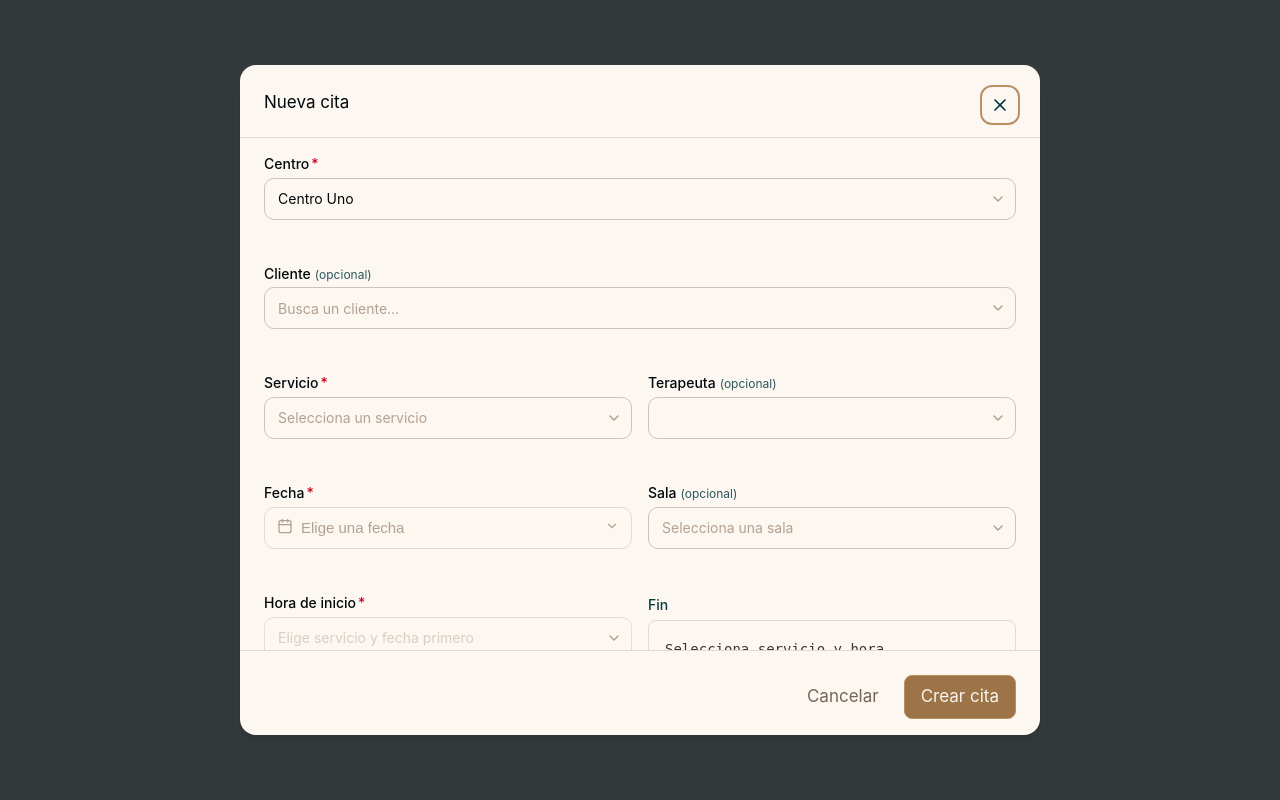
Scenario: CitaModal — therapist/centro mismatch › blocks submit with "Esa masajista no pertenece a ese centro" when the prefilled therapist is not in the centro list
What coordinates should you click on to do the following:
click the button "Crear cita"
I would click on:
 (960, 697)
Its box is [904, 675, 1016, 719].
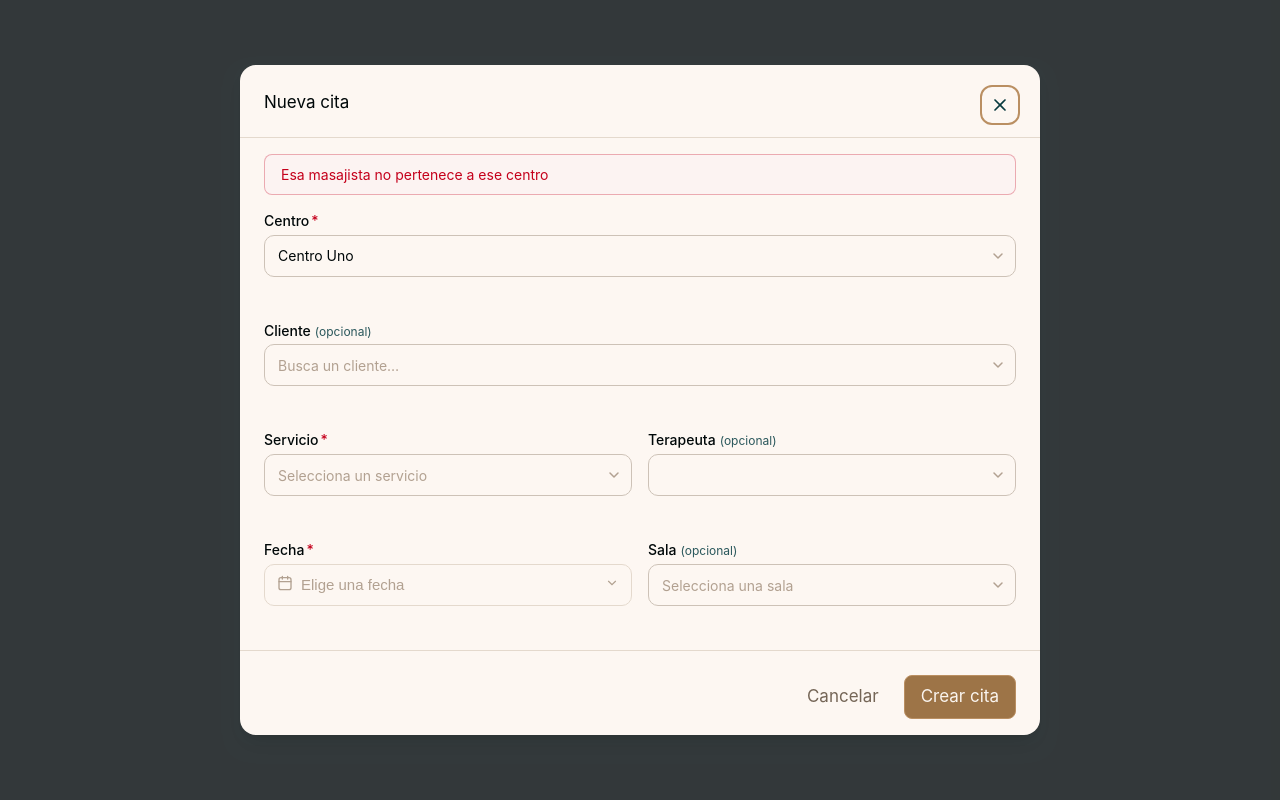
Check: the message reads "Esa masajista no pertenece a ese centro", box [281, 166, 548, 183]
